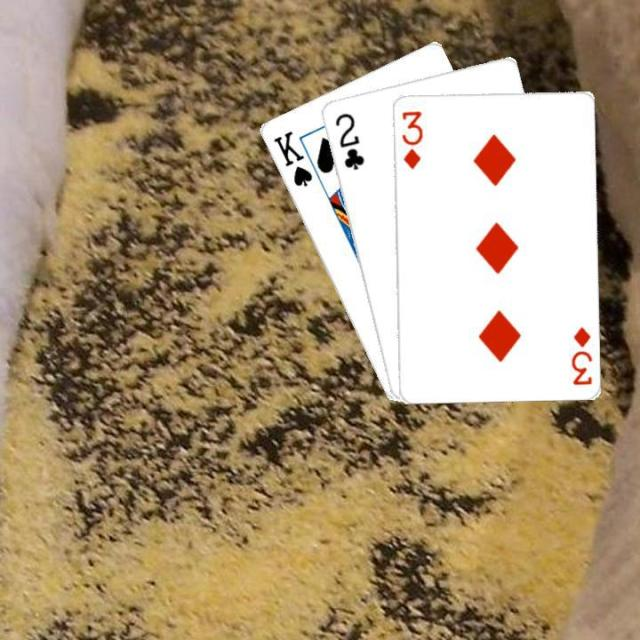2C: (331, 108, 366, 172)
3D: (566, 322, 594, 386), (397, 106, 424, 170)
KS: (268, 127, 314, 189)
